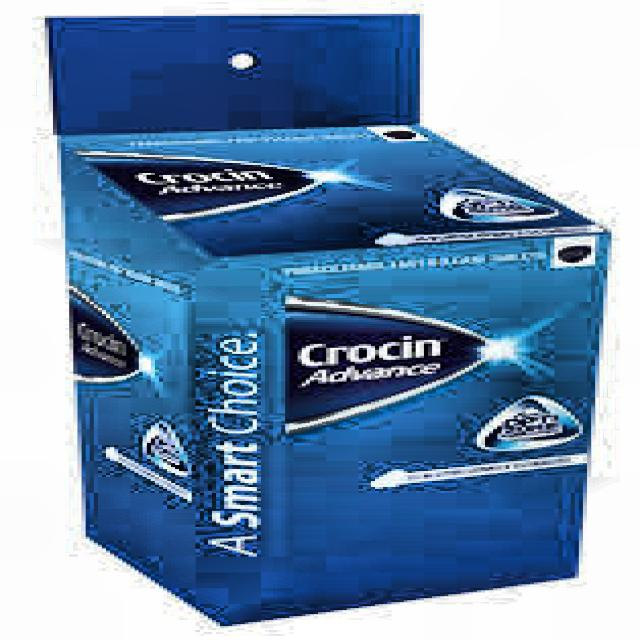Crocin: (274, 300, 538, 445), (70, 154, 361, 240), (66, 288, 166, 404)
